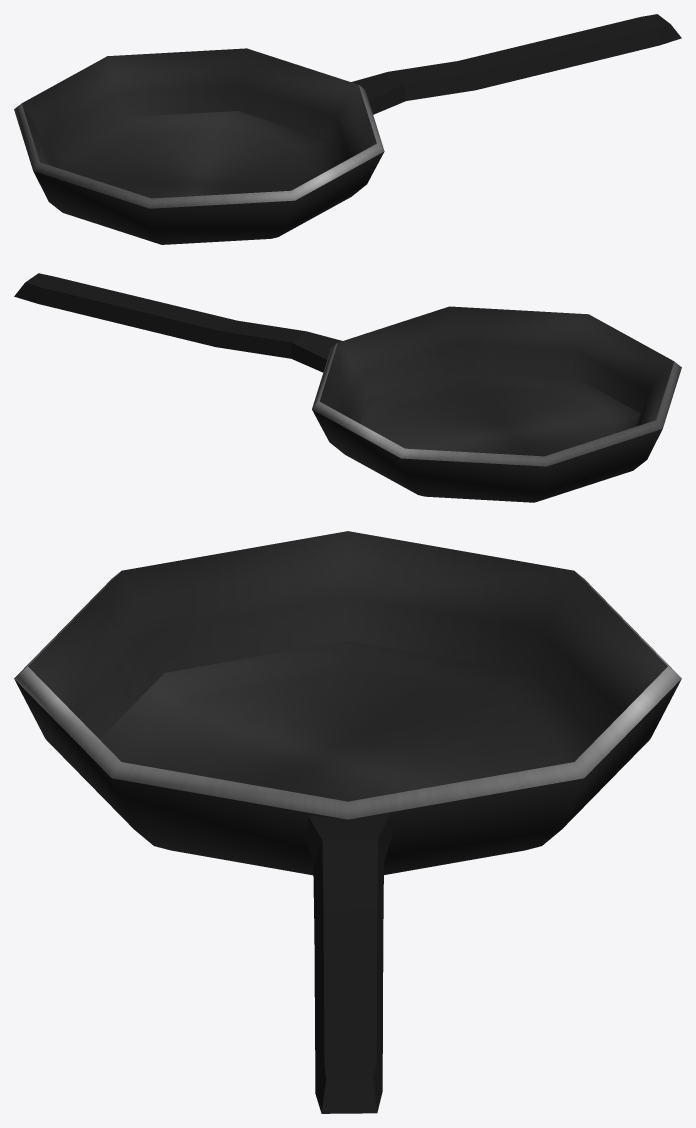
The model's file is Frying_Pan_B.FBX.
3 views of the same model, one above another, from view 1: azimuth 30°, elevation 25°; view 2: azimuth 150°, elevation 25°; view 3: azimuth 270°, elevation 25° (orthographic). The views are drawn at different scales.
Parts seen in each view (by area): view 1: Frying_Pan; view 2: Frying_Pan; view 3: Frying_Pan.
Part boxes in pixels (left/top/right/bottom): Frying_Pan: left=14, top=14, right=681, bottom=244; Frying_Pan: left=14, top=273, right=681, bottom=502; Frying_Pan: left=14, top=531, right=681, bottom=1113.
Size of the model in its own units: 141 by 13.23 by 73.2.
